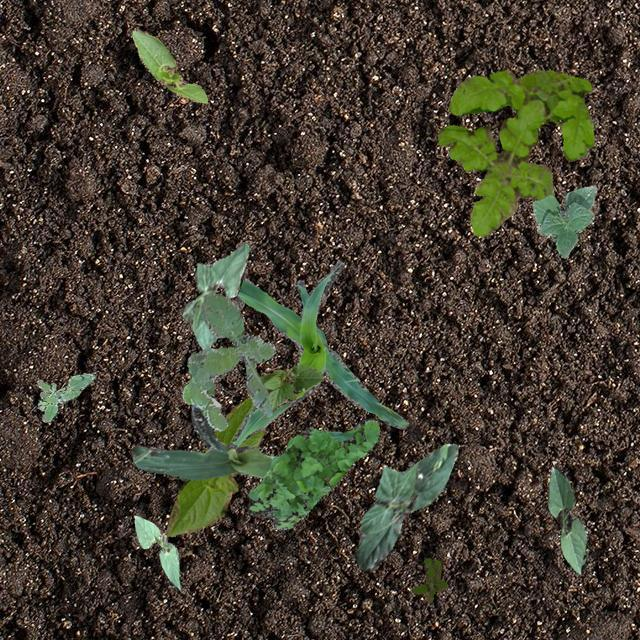crop: (228, 260, 408, 444), (165, 396, 263, 536), (356, 442, 456, 570), (130, 402, 278, 478), (182, 242, 248, 348), (130, 28, 207, 102), (532, 185, 596, 258), (546, 466, 586, 574), (134, 514, 180, 590), (258, 364, 322, 409)
weed: (437, 68, 592, 235), (246, 418, 378, 528), (182, 292, 274, 430), (36, 372, 94, 422), (412, 556, 446, 602)
